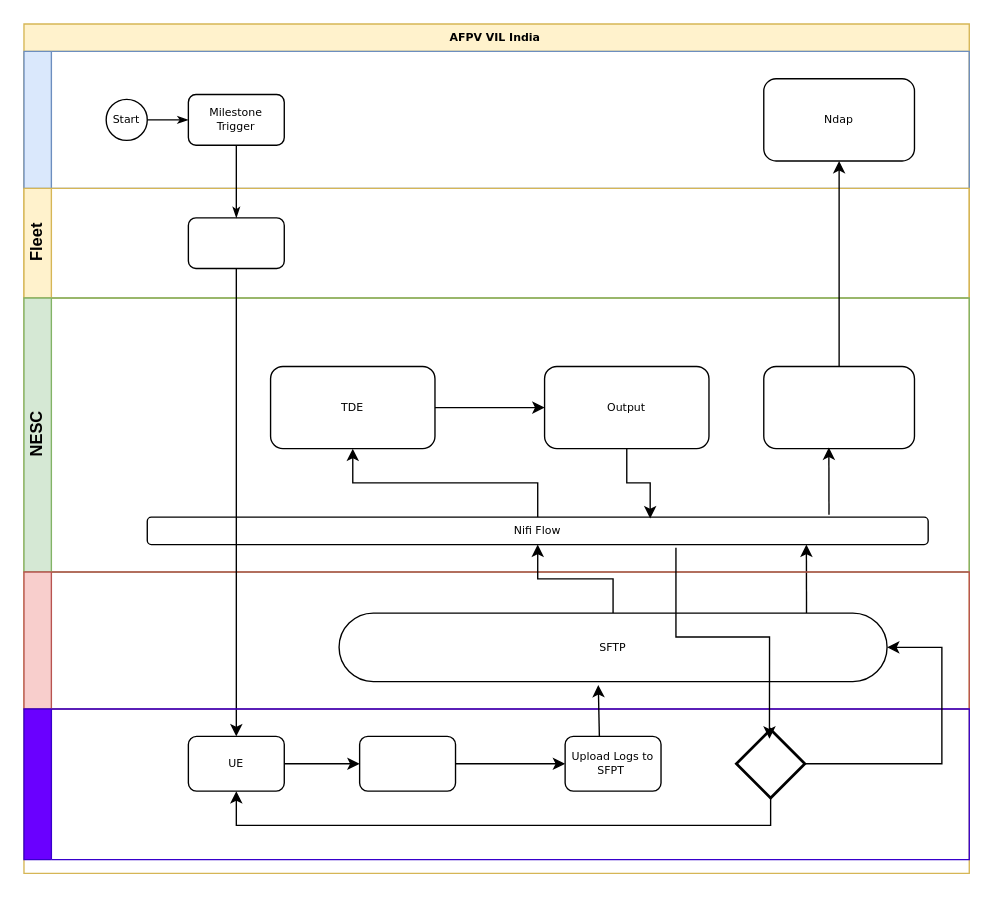
This 993x897 diagram has some shape labels left out. The shapes that lost their labels are listed below. From the top down, each one's box as (x1, y1, x2, y2) in pixels, then its label:
(23, 50, 969, 188): NDPA
(187, 216, 284, 269): Fleet Manager
(762, 365, 914, 449): Sharepoint / Final repor
(23, 571, 969, 709): GCP
(358, 735, 456, 791): Start DT
(23, 708, 969, 860): Field Engineer
